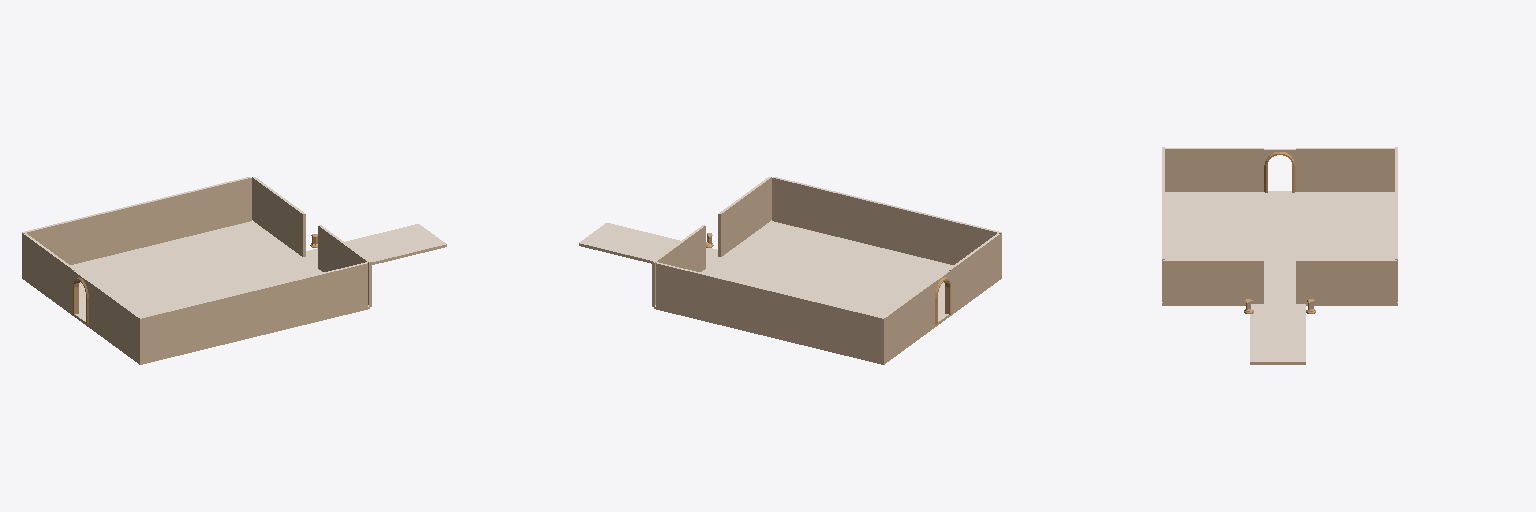
Rendered from EntryRoom.obj.
3 views of the same model, side by side, from view 1: azimuth 30°, elevation 25°; view 2: azimuth 150°, elevation 25°; view 3: azimuth 270°, elevation 25° (orthographic).
Parts seen in each view (by area): view 1: Wall_Straight_Middle, Floor_Normal_Square; view 2: Wall_Straight_Middle, Floor_Normal_Square; view 3: Floor_Normal_Square, Wall_Straight_Middle, Wall_Straight_Doorway_Large.
Boxes of the visible parts, box(x1,y1,x2,y2) form: Wall_Straight_Middle: box(22, 177, 371, 362); Floor_Normal_Square: box(22, 220, 446, 364); Wall_Straight_Middle: box(652, 177, 1001, 361); Floor_Normal_Square: box(579, 220, 1001, 364); Floor_Normal_Square: box(1162, 191, 1397, 364); Wall_Straight_Middle: box(1162, 147, 1397, 305); Wall_Straight_Doorway_Large: box(1263, 149, 1296, 192).
Bounding box in the file's own units: 26.09 × 3.28 × 15.2.